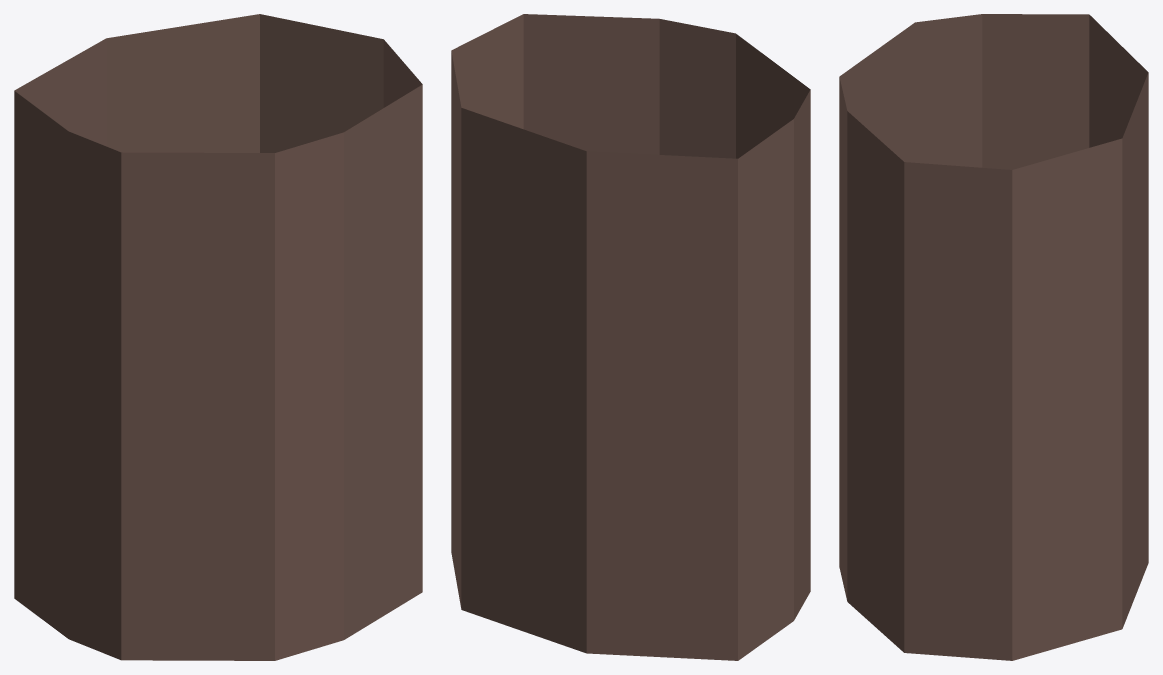
The picture shows the model from 3 angles, left to right: view 1: azimuth 30°, elevation 25°; view 2: azimuth 150°, elevation 25°; view 3: azimuth 270°, elevation 25°; orthographic projection. The views are drawn at different scales.
Parts seen in each view (by area): view 1: Cube.008; view 2: Cube.008; view 3: Cube.008.
Part boxes in pixels (x1,y1,x2,y2): Cube.008: [14, 14, 422, 660]; Cube.008: [451, 14, 810, 660]; Cube.008: [839, 14, 1148, 660].
Bounding box in the file's own units: 2110 × 3096 × 1766.
